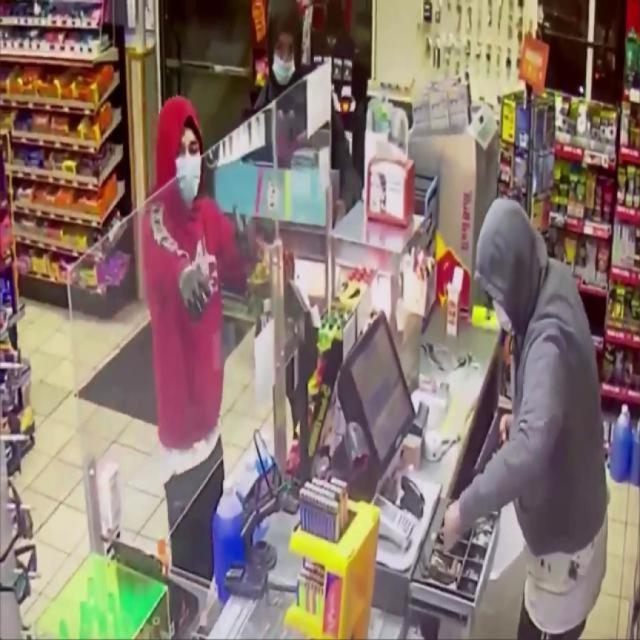pistol: (470, 409, 513, 482)
